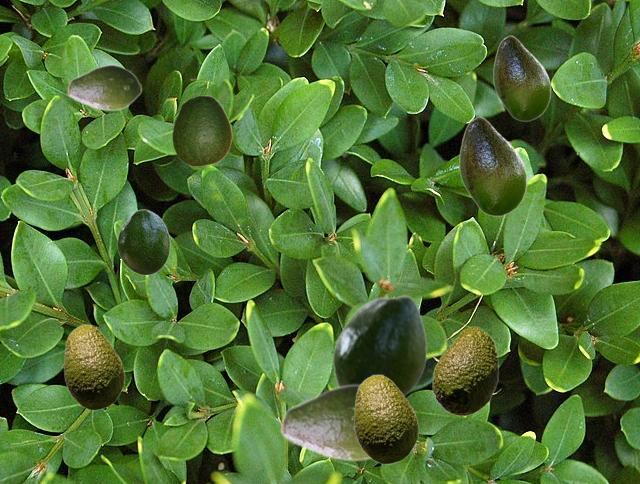avocado: (332, 294, 426, 396), (280, 383, 371, 461), (459, 116, 526, 215), (351, 374, 418, 463), (432, 326, 497, 415), (61, 324, 124, 409), (493, 35, 550, 120), (172, 95, 231, 165), (67, 64, 141, 110), (117, 209, 169, 274)
